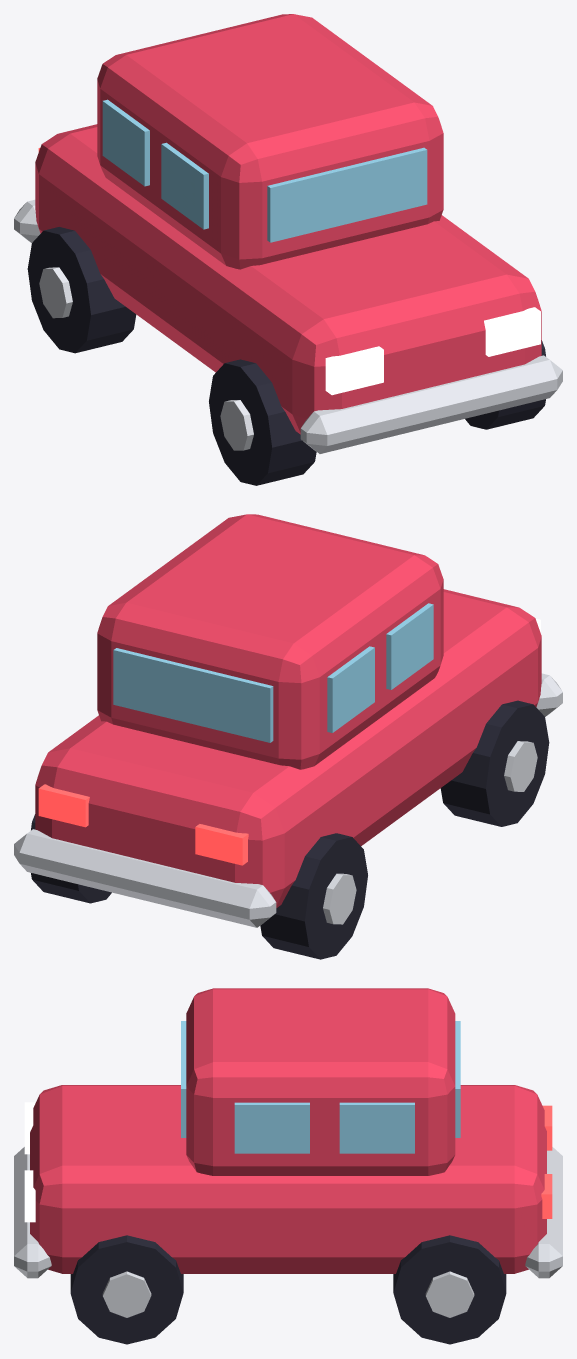
Rendered from car.glb.
The picture shows the model from 3 angles, top to bottom: view 1: azimuth 30°, elevation 25°; view 2: azimuth 150°, elevation 25°; view 3: azimuth 270°, elevation 25°; orthographic projection. The views are drawn at different scales.
Visible parts, largest first — view 1: Car; view 2: Car; view 3: Car.
Boxes of the visible parts, bbox=[...] form: Car: bbox=[14, 14, 562, 485]; Car: bbox=[14, 514, 562, 959]; Car: bbox=[14, 988, 562, 1344].
Bounding box in the file's own units: 1.11 × 1.06 × 2.04.
